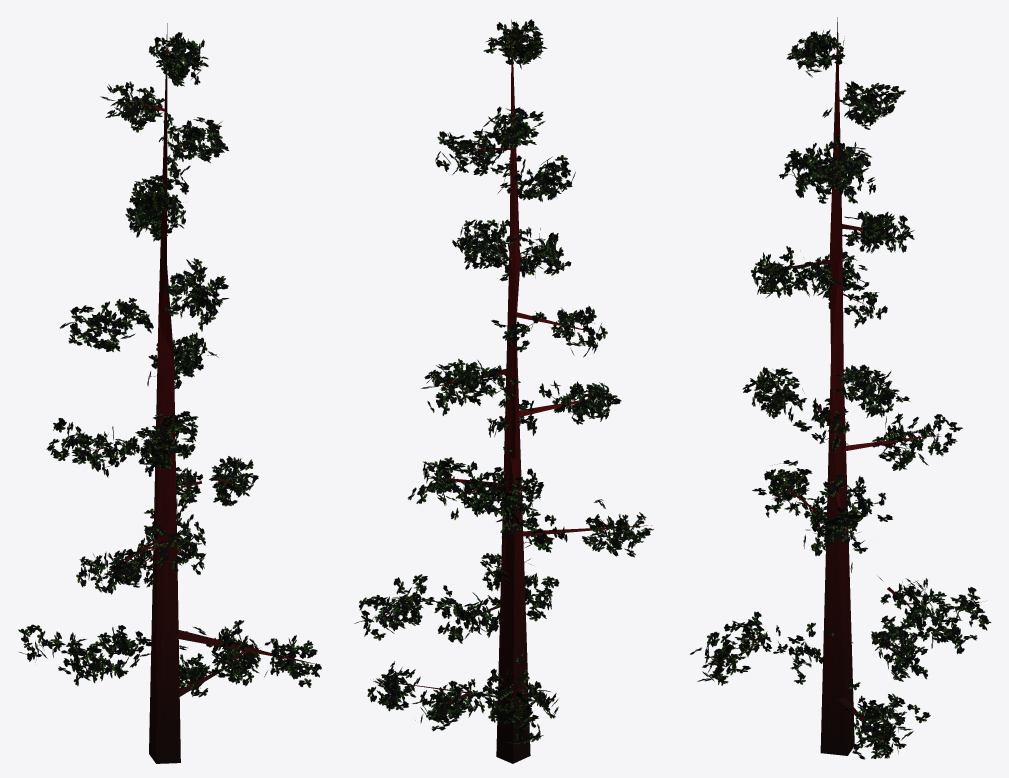
The model's file is spruce_conifer_v02_LOD2.glb.
3 renders of one model, left to right at view 1: azimuth 30°, elevation 25°; view 2: azimuth 150°, elevation 25°; view 3: azimuth 270°, elevation 25°, orthographic.
Visible parts, largest first — view 1: spruce_conifer_v02_LOD2; view 2: spruce_conifer_v02_LOD2; view 3: spruce_conifer_v02_LOD2.
Part boxes in pixels (x1,y1,x2,y2): spruce_conifer_v02_LOD2: (18, 23, 321, 763); spruce_conifer_v02_LOD2: (354, 19, 654, 763); spruce_conifer_v02_LOD2: (689, 17, 991, 759).
Size of the model in its own units: 9.05 by 27.94 by 10.6.
2 materials, 2 textured.
